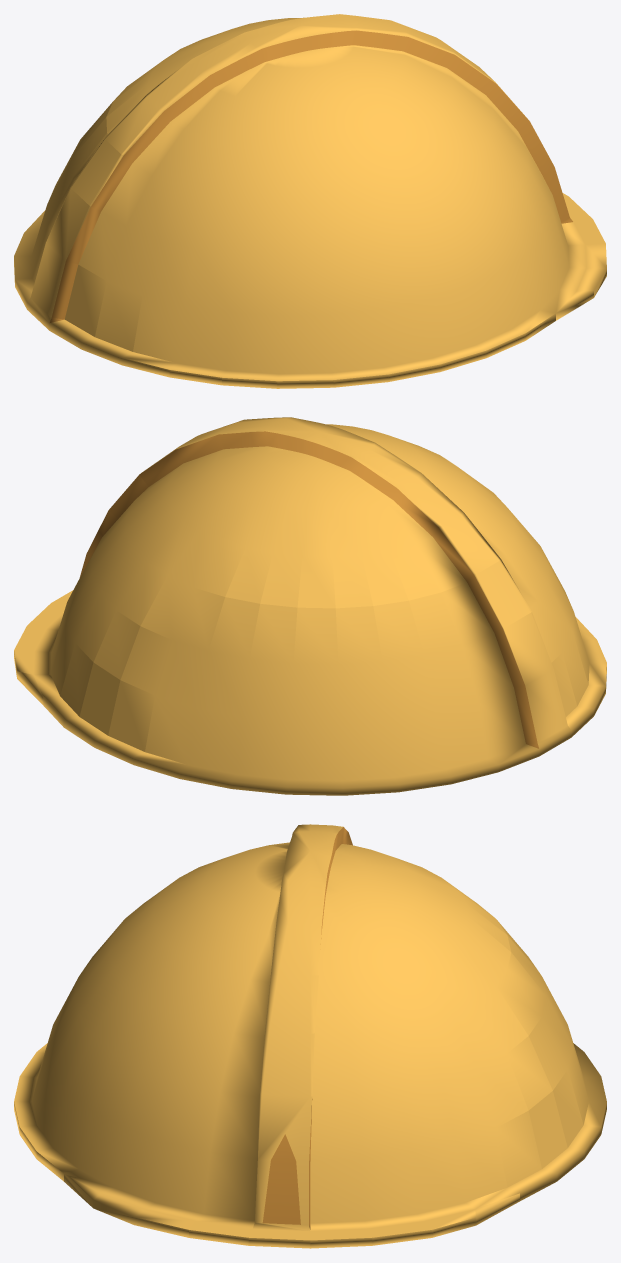
Rendered from hardHat.fbx.
3 views of the same model, one above another, from view 1: azimuth 30°, elevation 25°; view 2: azimuth 150°, elevation 25°; view 3: azimuth 270°, elevation 25° (orthographic). The views are drawn at different scales.
Parts seen in each view (by area): view 1: Sphere; view 2: Sphere; view 3: Sphere.
Boxes of the visible parts, x1=… form: Sphere: x1=14, y1=14, x2=606, y2=388; Sphere: x1=14, y1=417, x2=606, y2=795; Sphere: x1=14, y1=824, x2=606, y2=1248.
Size of the model in its own units: 189 by 84.97 by 177.
